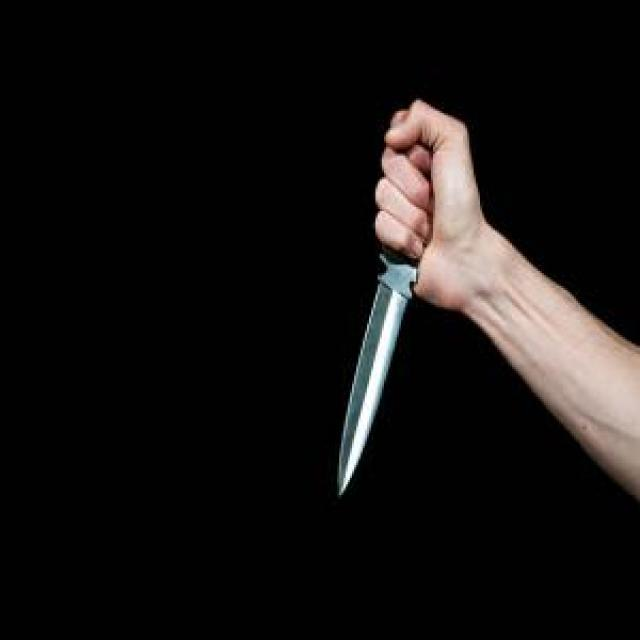knife: (326, 122, 448, 498)
